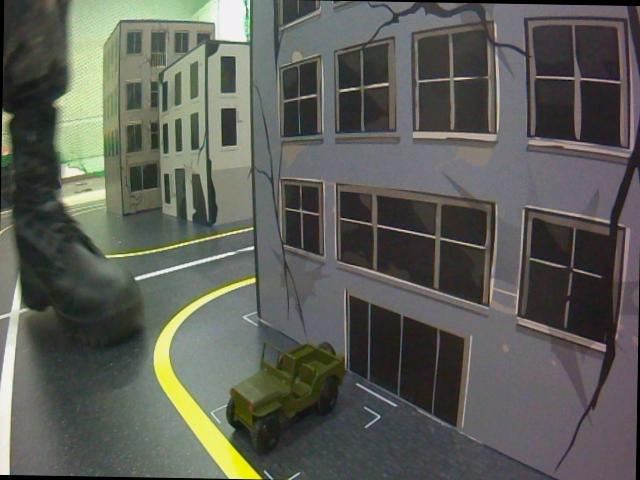Car: (224, 338, 349, 455)
